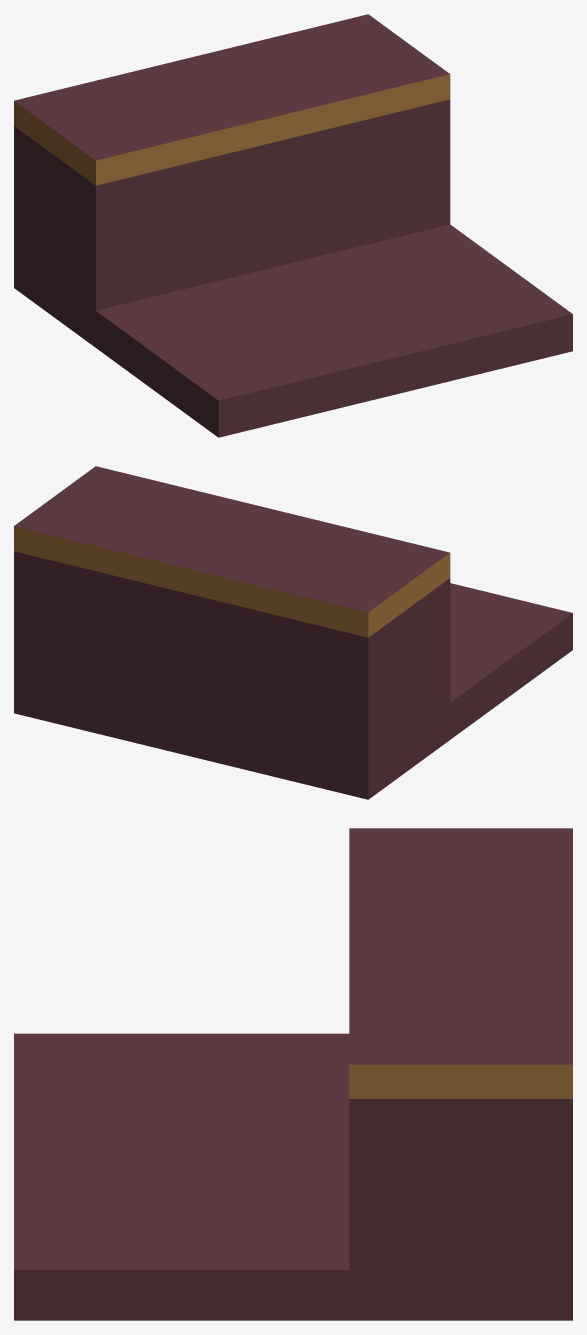
The model's file is empire-pool-part-edge-1x1m-empire.glb.
3 renders of one model, top to bottom at view 1: azimuth 30°, elevation 25°; view 2: azimuth 150°, elevation 25°; view 3: azimuth 270°, elevation 25°, orthographic. The views are drawn at different scales.
Parts seen in each view (by area): view 1: SM_Pool_Part_Edge_1x1m_Empire; view 2: SM_Pool_Part_Edge_1x1m_Empire; view 3: SM_Pool_Part_Edge_1x1m_Empire.
Boxes of the visible parts, x1,y1,x2,y2 form: SM_Pool_Part_Edge_1x1m_Empire: (14, 14, 572, 437); SM_Pool_Part_Edge_1x1m_Empire: (14, 466, 572, 799); SM_Pool_Part_Edge_1x1m_Empire: (14, 828, 572, 1320).
Bounding box in the file's own units: 1 × 0.5051 × 1.
